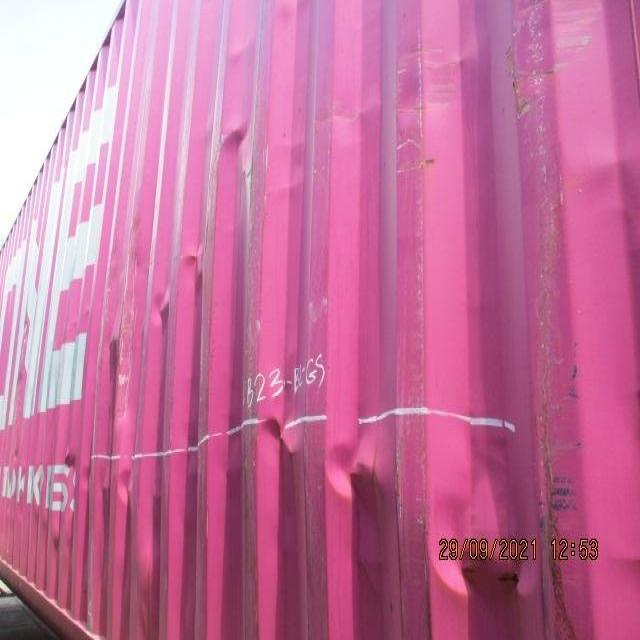dent: (439, 404, 563, 598), (252, 389, 402, 530), (382, 33, 481, 176), (97, 251, 211, 367), (222, 87, 262, 187)
